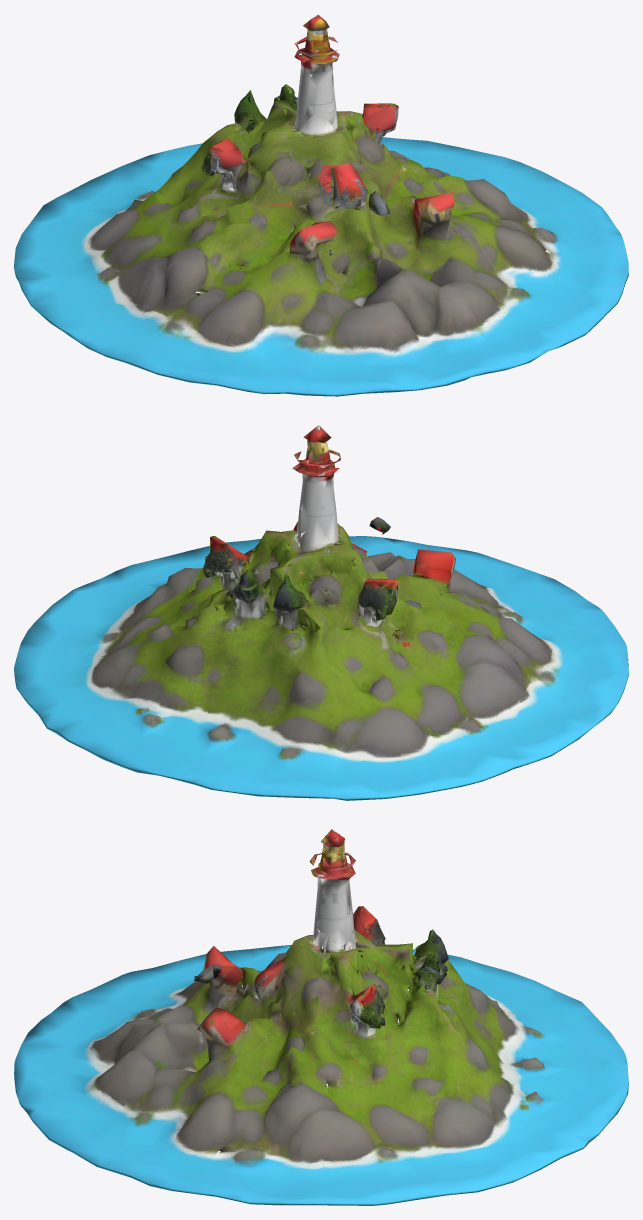
The model's file is island_1.glb.
The picture shows the model from 3 angles, top to bottom: view 1: azimuth 30°, elevation 25°; view 2: azimuth 150°, elevation 25°; view 3: azimuth 270°, elevation 25°; orthographic projection.
Size of the model in its own units: 2 by 0.8993 by 2.
Materials: 1 (1 with a texture image).
